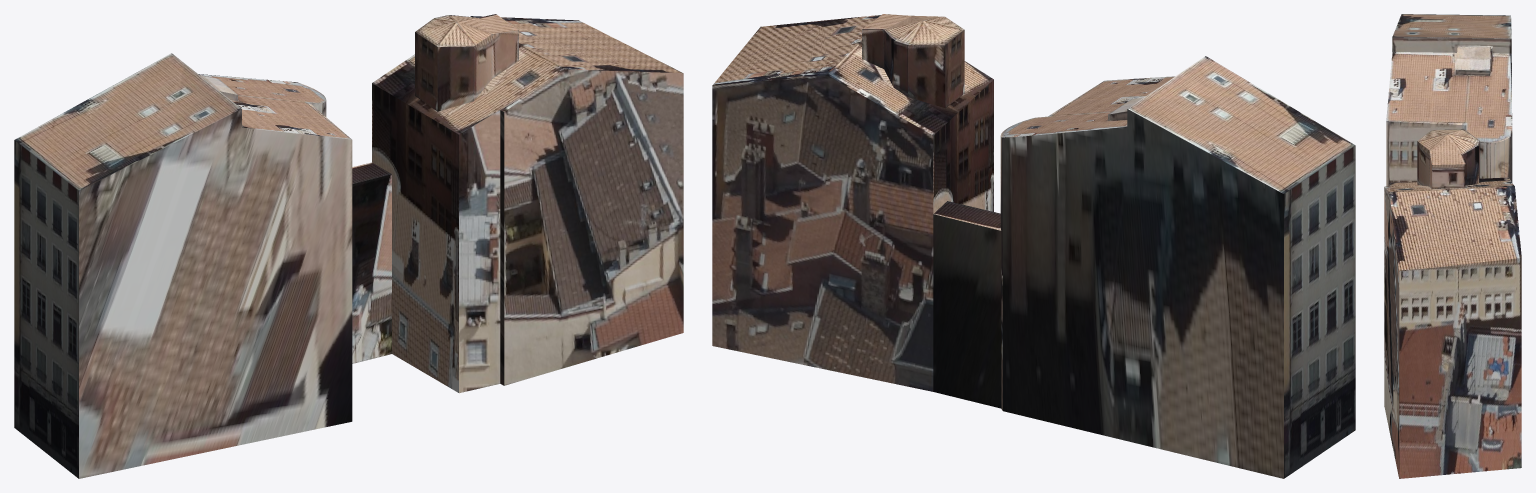
3 renders of one model, left to right at view 1: azimuth 30°, elevation 25°; view 2: azimuth 150°, elevation 25°; view 3: azimuth 270°, elevation 25°, orthographic. The views are drawn at different scales.
Visible parts, largest first — view 1: Z_UP; view 2: Z_UP; view 3: Z_UP.
Part boxes in pixels (left/top/right/bottom): Z_UP: left=14, top=14, right=683, bottom=478; Z_UP: left=712, top=14, right=1355, bottom=478; Z_UP: left=1384, top=14, right=1521, bottom=478.
Size of the model in its own units: 49.41 by 26.33 by 12.22.
2 materials, 1 textured.
